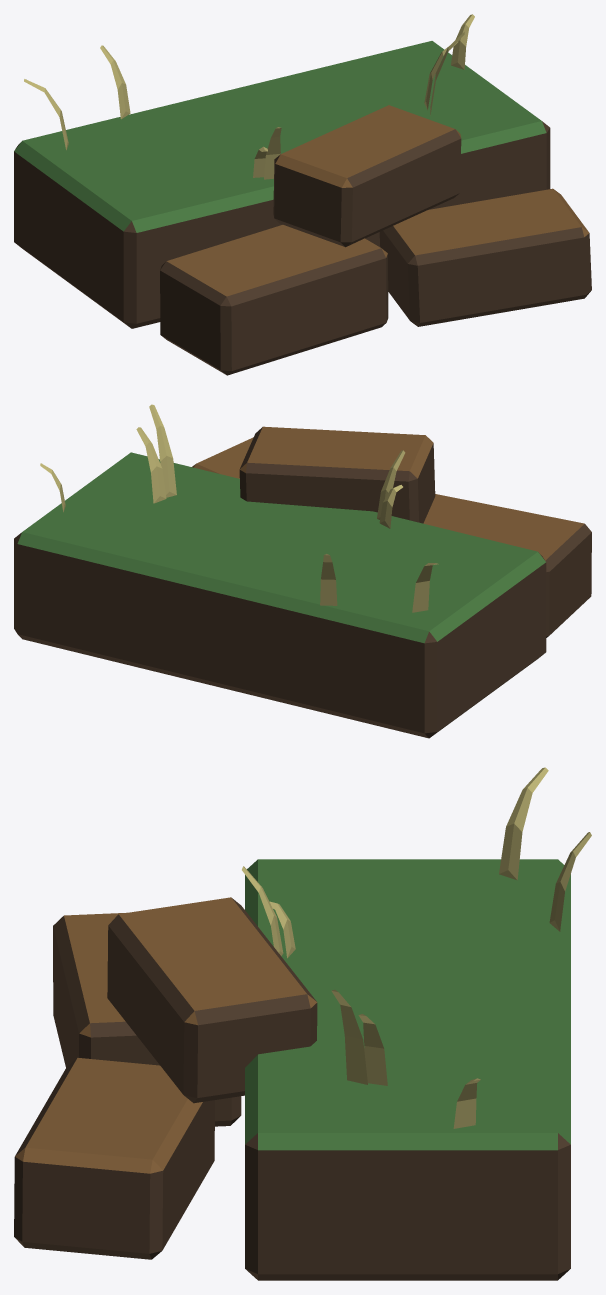
Rendered from peat_deposit.glb.
3 renders of one model, top to bottom at view 1: azimuth 30°, elevation 25°; view 2: azimuth 150°, elevation 25°; view 3: azimuth 270°, elevation 25°, orthographic. The views are drawn at different scales.
Parts seen in each view (by area): view 1: peat_deposit.001; view 2: peat_deposit.001; view 3: peat_deposit.001.
Boxes of the visible parts, x1,y1,x2,y2 form: peat_deposit.001: (14,14,591,375); peat_deposit.001: (14,404,591,738); peat_deposit.001: (14,767,591,1280).
Size of the model in its own units: 1.06 by 0.4519 by 0.9018.
